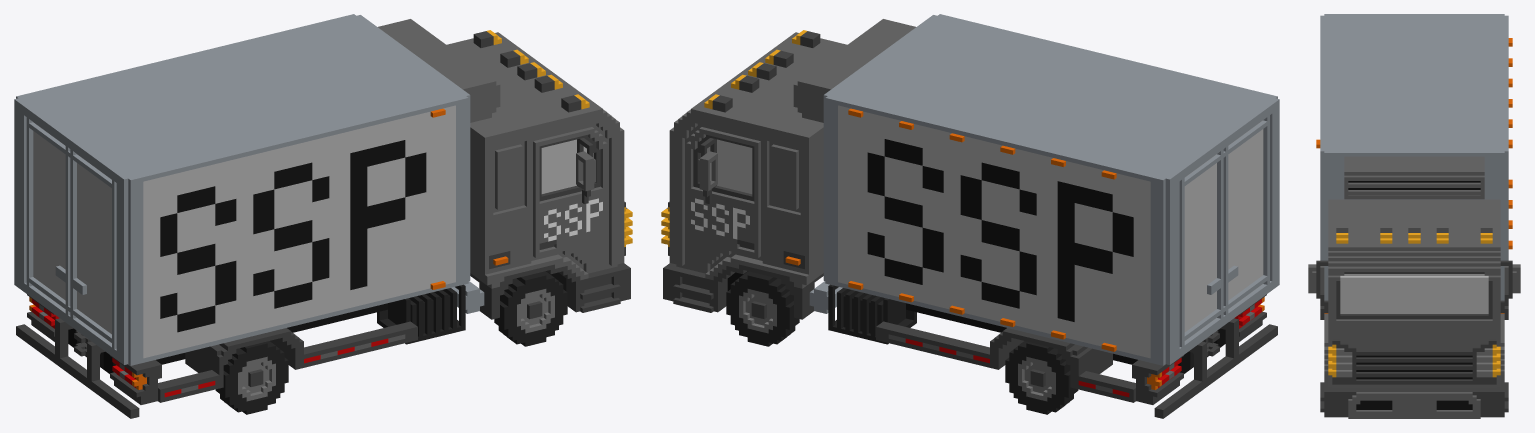
The model's file is truck2.obj.
The picture shows the model from 3 angles, left to right: view 1: azimuth 30°, elevation 25°; view 2: azimuth 150°, elevation 25°; view 3: azimuth 270°, elevation 25°; orthographic projection. The views are drawn at different scales.
Bounding box in the file's own units: 12.1 × 6 × 5.3.
1 material, 1 textured.
